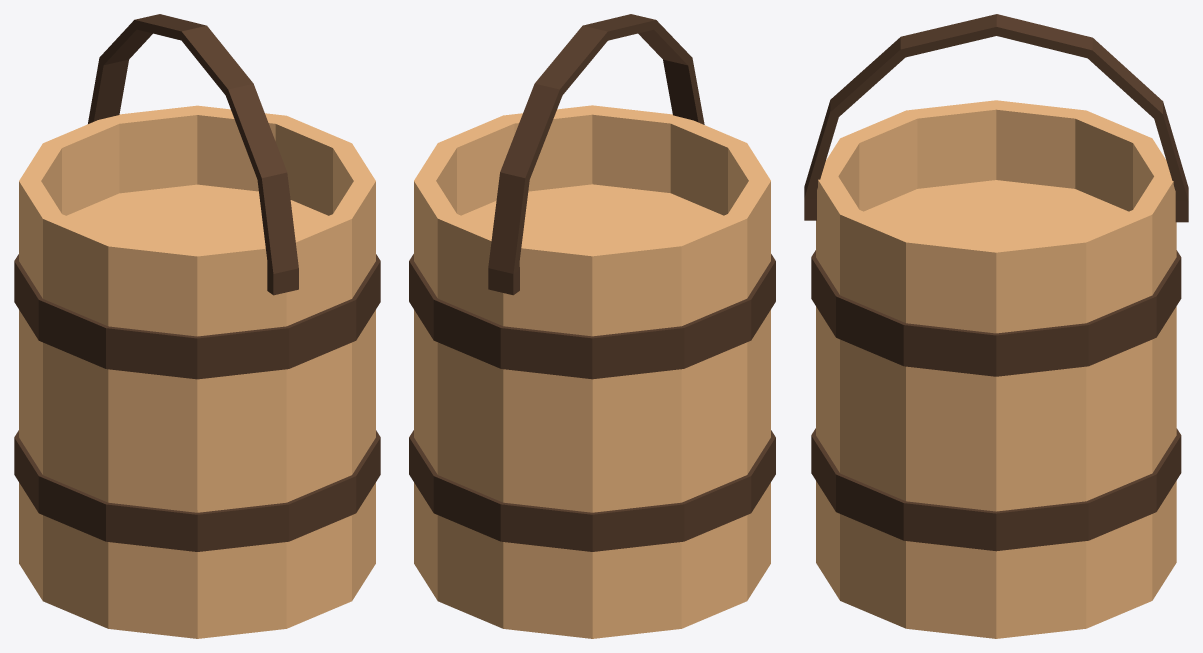
The model's file is cc_water_bucket1.fbx.
3 renders of one model, left to right at view 1: azimuth 30°, elevation 25°; view 2: azimuth 150°, elevation 25°; view 3: azimuth 270°, elevation 25°, orthographic.
Visible parts, largest first — view 1: Cylinder, Cylinder.001; view 2: Cylinder, Cylinder.001; view 3: Cylinder, Cylinder.001.
Part boxes in pixels (x1,y1,x2,y2): Cylinder: [14, 105, 380, 638]; Cylinder.001: [88, 14, 298, 295]; Cylinder: [409, 105, 775, 638]; Cylinder.001: [488, 14, 704, 295]; Cylinder: [811, 100, 1181, 638]; Cylinder.001: [804, 14, 1188, 222].
Size of the model in its own units: 315 by 508 by 327.
